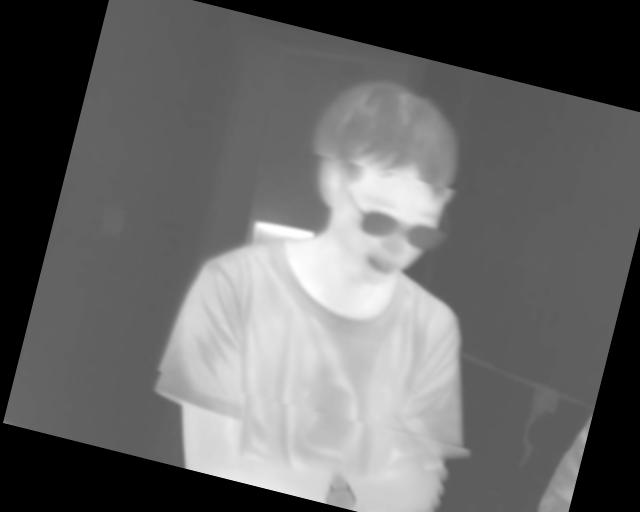face: (280, 65, 480, 300)
